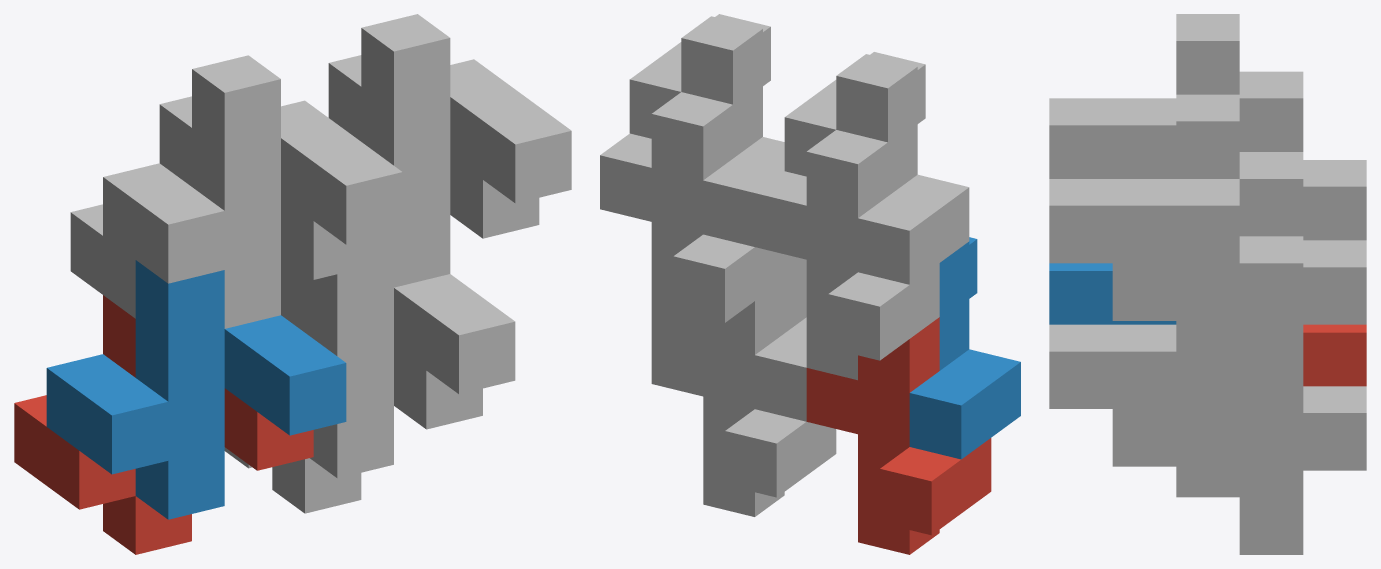
File: tiling.obj
3 views of the same model, side by side, from view 1: azimuth 30°, elevation 25°; view 2: azimuth 150°, elevation 25°; view 3: azimuth 270°, elevation 25° (orthographic). The views are drawn at different scales.
Visible parts, largest first — view 1: copy_1_domain_4, copy_1_domain_2, copy_1_domain_8, copy_1_domain_6, copy_1_domain_1, copy_1_domain_3, copy_1_domain_5, copy_1_domain_7; view 2: copy_1_domain_3, copy_1_domain_7, copy_1_domain_1, copy_1_domain_4, copy_1_domain_5, copy_1_domain_8, copy_1_domain_2, copy_1_domain_6; view 3: copy_1_domain_7, copy_1_domain_8, copy_1_domain_5, copy_1_domain_6, copy_1_domain_4, copy_1_domain_3, copy_1_domain_2, copy_1_domain_1.
Part boxes in pixels (x1,y1,x2,y2): copy_1_domain_4: (103, 55, 402, 328); copy_1_domain_2: (46, 260, 346, 519); copy_1_domain_8: (361, 14, 571, 287); copy_1_domain_6: (305, 233, 515, 478); copy_1_domain_1: (14, 295, 313, 554); copy_1_domain_3: (70, 96, 369, 318); copy_1_domain_5: (224, 260, 482, 513); copy_1_domain_7: (281, 55, 539, 277); copy_1_domain_3: (755, 130, 939, 380); copy_1_domain_7: (600, 92, 784, 342); copy_1_domain_1: (806, 317, 991, 554); copy_1_domain_4: (784, 52, 969, 284); copy_1_domain_5: (651, 279, 836, 516); copy_1_domain_8: (629, 14, 784, 246); copy_1_domain_2: (909, 237, 1020, 459); copy_1_domain_6: (755, 254, 806, 421); copy_1_domain_7: (1112, 152, 1366, 408); copy_1_domain_8: (1049, 94, 1239, 351); copy_1_domain_5: (1112, 386, 1366, 554); copy_1_domain_6: (1049, 324, 1239, 497); copy_1_domain_4: (1049, 14, 1239, 178); copy_1_domain_3: (1239, 71, 1366, 240); copy_1_domain_2: (1049, 263, 1176, 324); copy_1_domain_1: (1303, 324, 1366, 386).
Size of the model in its own units: 7 by 8 by 5.
